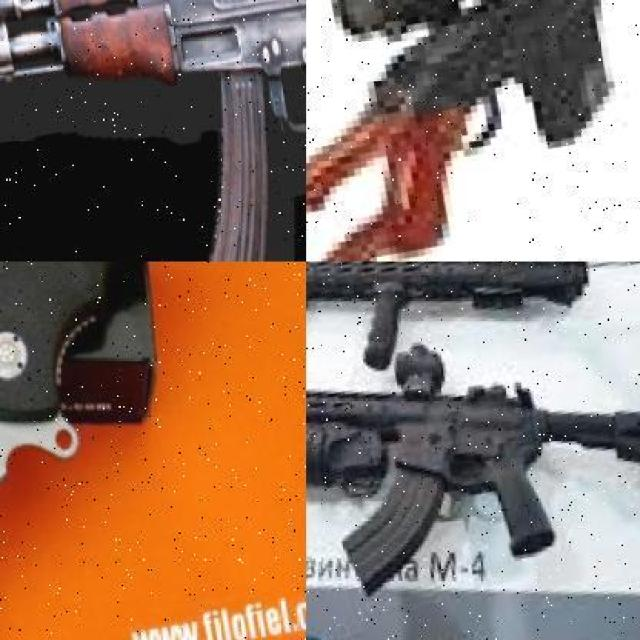weapon: (303, 342, 640, 592), (307, 0, 628, 248), (0, 0, 307, 258)
